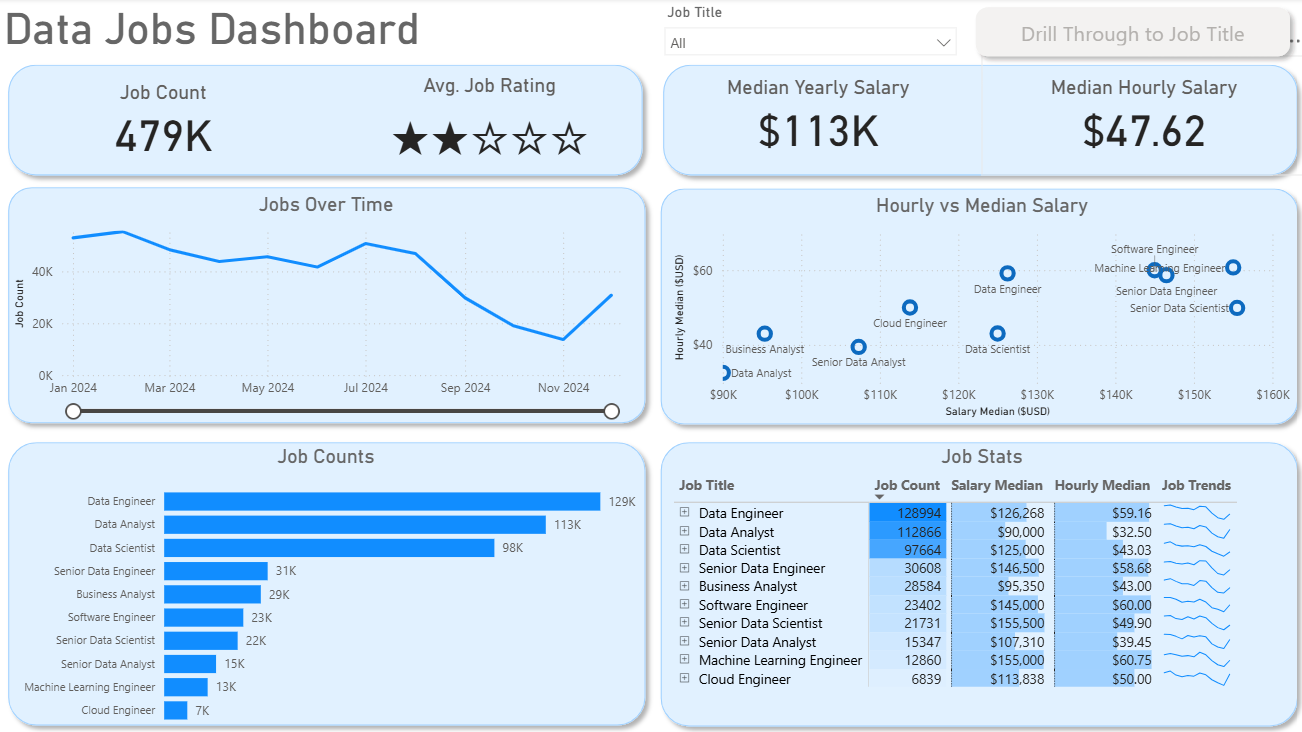

The page's visual inventory and layout, read from the dashboard file:
{"tool":"powerbi","page":{"name":"Data Jobs Dashboard","canvas":[1920,1080],"ordinal":0},"visuals":[{"type":"group","id":"g1","title":"Background","box":[0,123.1,1355.4,957.3],"z":0},{"type":"textbox","box":[10.9,0,615.3,139.3],"z":1000},{"type":"slicer","fields":{"Values":["job_postings_flat.job_title_short"]},"box":[542.9,0,533.8,70.6],"z":2000},{"type":"cardVisual","fields":{"Data":["Median(job_postings_flat.salary_year_avg)"]},"box":[707.6,126.7,302.2,146.6],"z":3000},{"type":"cardVisual","fields":{"Data":["Median(job_postings_flat.salary_hour_avg)"]},"box":[1044.2,126.7,302.2,146.6],"z":4000},{"type":"cardVisual","fields":{"Data":["job_postings_flat.Salary Star Rating"]},"box":[372.8,126.7,302.2,146.6],"z":5000},{"type":"cardVisual","fields":{"Data":["CountNonNull(job_postings_flat.job_title_short)"]},"box":[41.6,126.7,302.2,146.6],"z":6000},{"type":"lineChart","title":"What is trend of jobs in 2024?","fields":{"Category":["job_postings_flat.job_posted_date.Variation.Date Hierarchy.Year","job_postings_flat.job_posted_date.Variation.Date Hierarchy.Quarter","job_postings_flat.job_posted_date.Variation.Date Hierarchy.Month","job_postings_flat.job_posted_date.Variation.Date Hierarchy.Day"],"Y":["CountNonNull(job_postings_flat.job_title_short)"]},"box":[41.7,333.9,619.8,402.8],"z":7000},{"type":"barChart","title":"What is the highest in data paying job?","fields":{"Category":["job_postings_flat.job_title_short"],"Series":["job_postings_flat.job_title_short"],"Y":["CountNonNull(job_postings_flat.job_title_short)"]},"box":[41.7,736.7,619.8,344.3],"z":8000},{"type":"scatterChart","title":"Hourly vs Yearly Salary of Data Jobs","fields":{"Series":["job_postings_flat.job_title_short"],"X":["Median(job_postings_flat.salary_year_avg)"],"Y":["Median(job_postings_flat.salary_hour_avg)"]},"box":[688.7,333.9,636.5,386.1],"z":9000},{"type":"shape","box":[0,123.1,689.5,150.2],"z":10000,"group":"g1"},{"type":"pivotTable","fields":{"Rows":["job_postings_flat.job_title_short","job_postings_flat.job_posted_date.Variation.Date Hierarchy.Quarter"],"Values":["CountNonNull(job_postings_flat.job_title_short)","Median(job_postings_flat.salary_year_avg)","Median(job_postings_flat.salary_hour_avg)","SparklineData(CountNonNull(job_postings_flat.job_title_short)_[job_postings_flat.job_posted_date.Variation.Date Hierarch"]},"box":[688.7,738.8,676.2,342.3],"z":10000},{"type":"actionButton","box":[1111.1,16.3,365.6,81.4],"z":11000},{"type":"shape","box":[689.5,123.1,656.9,150.2],"z":11000,"group":"g1"},{"type":"shape","box":[0,311.3,660.5,425.3],"z":12000,"group":"g1"},{"type":"shape","box":[656.9,313.1,689.5,425.3],"z":13000,"group":"g1"},{"type":"shape","box":[0,738.4,660.5,342],"z":14000,"group":"g1"},{"type":"shape","box":[656.9,738.4,698.5,342],"z":15000,"group":"g1"}]}

Visuals, with their boxes in screenshot pixels (x1, y1, x2, y2), scaled from the page's 1920x1080 canvas onto the 1302x732 screenshot:
"Background" group: 0 83 919 731
textbox: 7 0 425 94
slicer - job_postings_flat.job_title_short: 368 0 730 48
cardVisual - Median(job_postings_flat.salary_year_avg): 480 86 685 185
cardVisual - Median(job_postings_flat.salary_hour_avg): 708 86 913 185
cardVisual - job_postings_flat.Salary Star Rating: 253 86 458 185
cardVisual - CountNonNull(job_postings_flat.job_title_short): 28 86 233 185
"What is trend of jobs in 2024?" lineChart: 28 226 449 499
"What is the highest in data paying job?" barChart: 28 499 449 731
"Hourly vs Yearly Salary of Data Jobs" scatterChart: 467 226 899 488
shape: 0 83 468 185
pivotTable - job_postings_flat.job_title_short x job_postings_flat.job_posted_date.Variation.Date Hierarchy.Quarter: 467 501 926 731
actionButton: 753 11 1001 66
shape: 468 83 913 185
shape: 0 211 448 499
shape: 445 212 913 500
shape: 0 500 448 731
shape: 445 500 919 731
